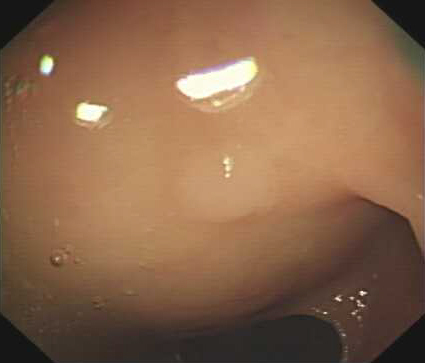others: (169, 140, 274, 223)
